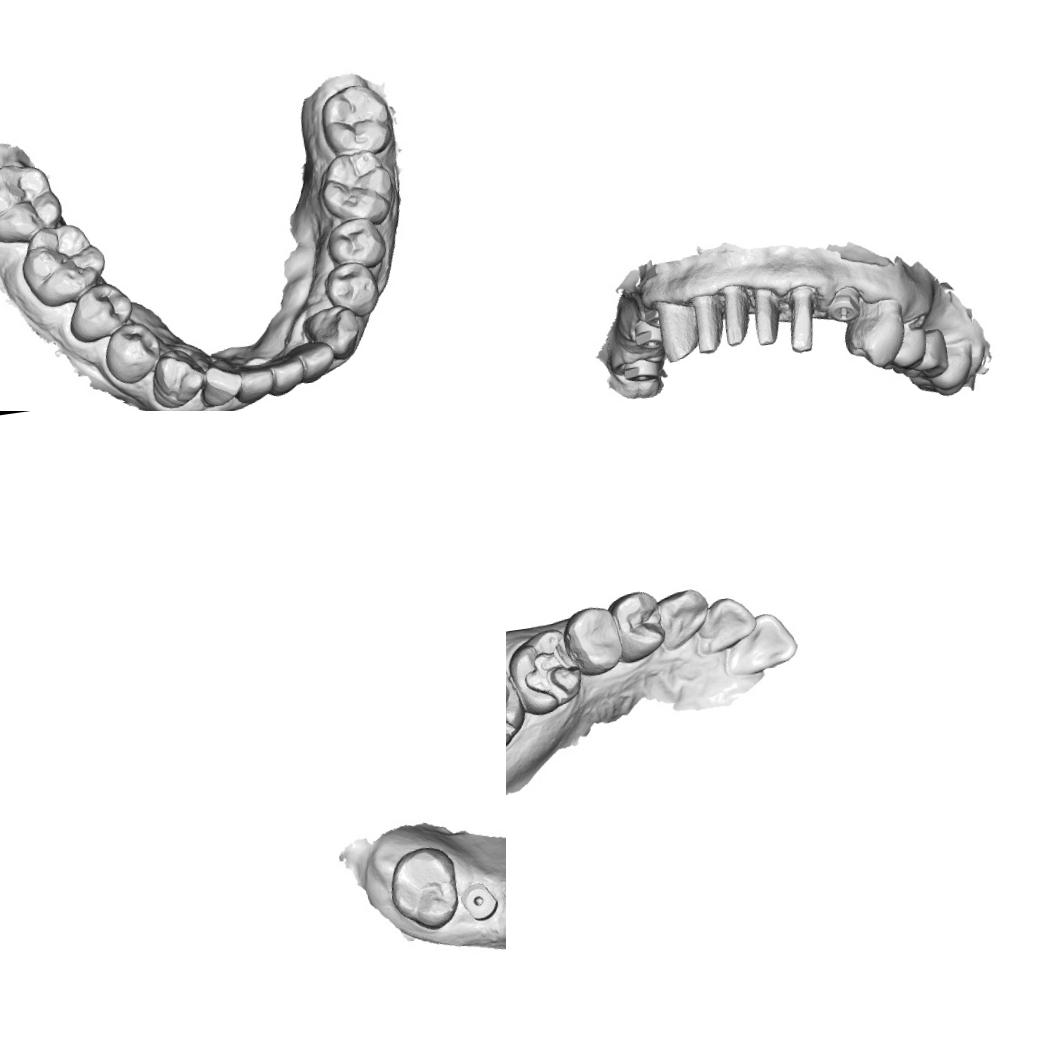canine: (650, 585, 714, 652), (300, 303, 366, 364), (147, 346, 207, 411), (652, 292, 700, 366)
crown: (781, 282, 820, 354), (690, 289, 727, 356), (718, 282, 752, 347), (752, 281, 781, 353)
implant: (615, 352, 670, 388), (460, 880, 500, 926), (629, 310, 662, 356)
implant_minus: (822, 285, 864, 326)
incisor: (718, 609, 802, 680), (691, 592, 762, 654), (195, 358, 244, 411), (233, 362, 274, 409), (296, 340, 338, 384), (266, 354, 306, 398)
inlay: (514, 634, 584, 710), (506, 672, 519, 742)
molar: (16, 216, 110, 311), (382, 845, 466, 936), (316, 78, 402, 158), (318, 152, 398, 230), (0, 157, 66, 248)
premolar: (838, 296, 910, 374), (60, 278, 138, 346), (559, 600, 626, 679), (606, 585, 667, 667), (324, 216, 391, 274), (102, 324, 160, 386), (322, 261, 380, 321)
